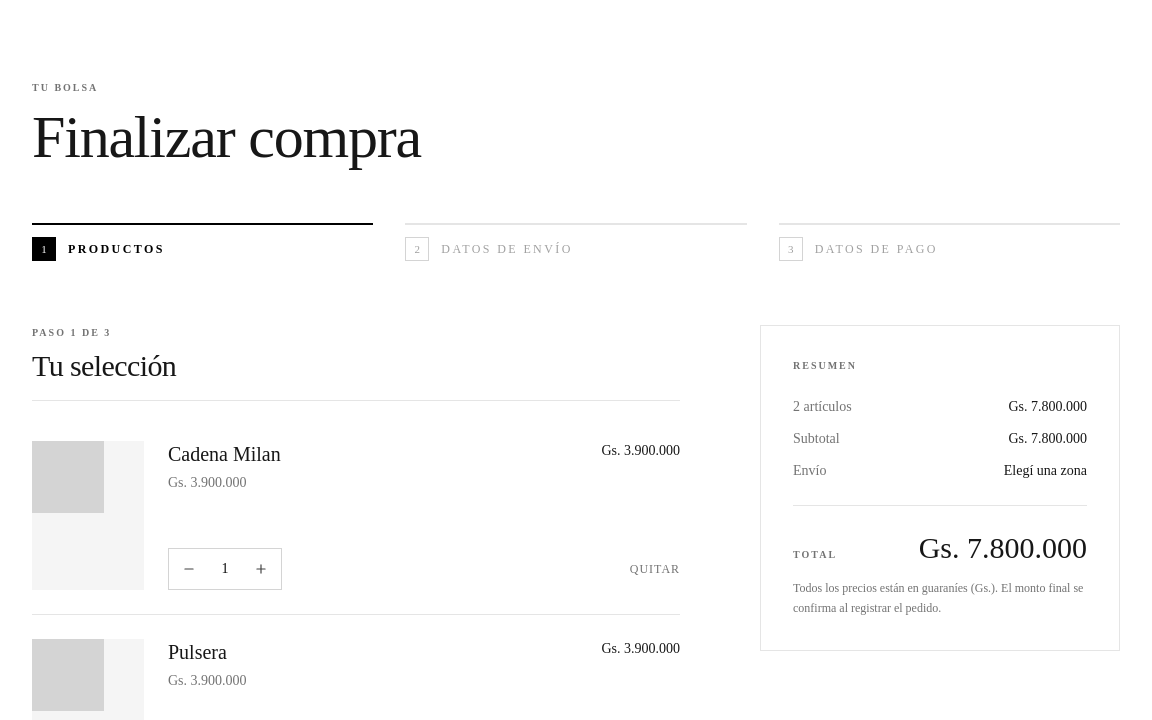
it: CheckoutFlow: step 1 (products) › removes a single line and keeps the other
This screenshot has width=1152, height=720.
Expected: the heading "Finalizar compra" is shown, x1=32 y1=104 x2=421 y2=170
Click the button with aria-label "Quitar Cadena Milan del carrito" at (655, 569), box x1=630 y1=561 x2=680 y2=577
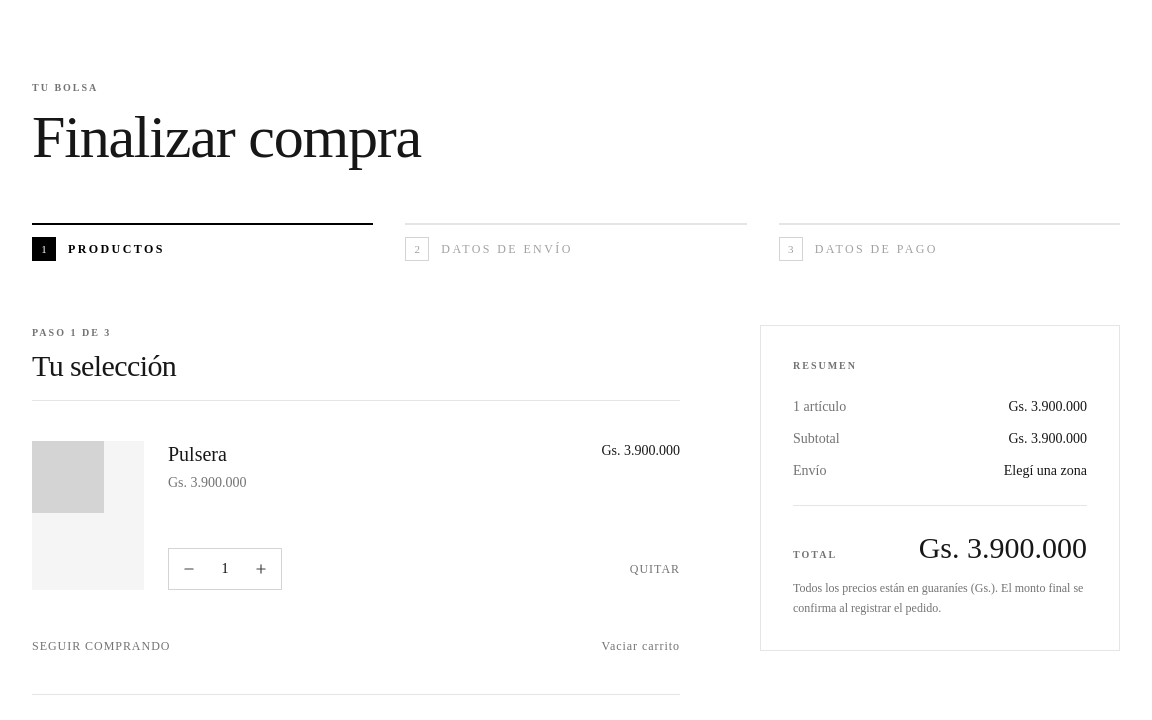
Expected: the heading "Pulsera" is shown, x1=168 y1=443 x2=227 y2=465
Now the heading "Cadena Milan" is gone
